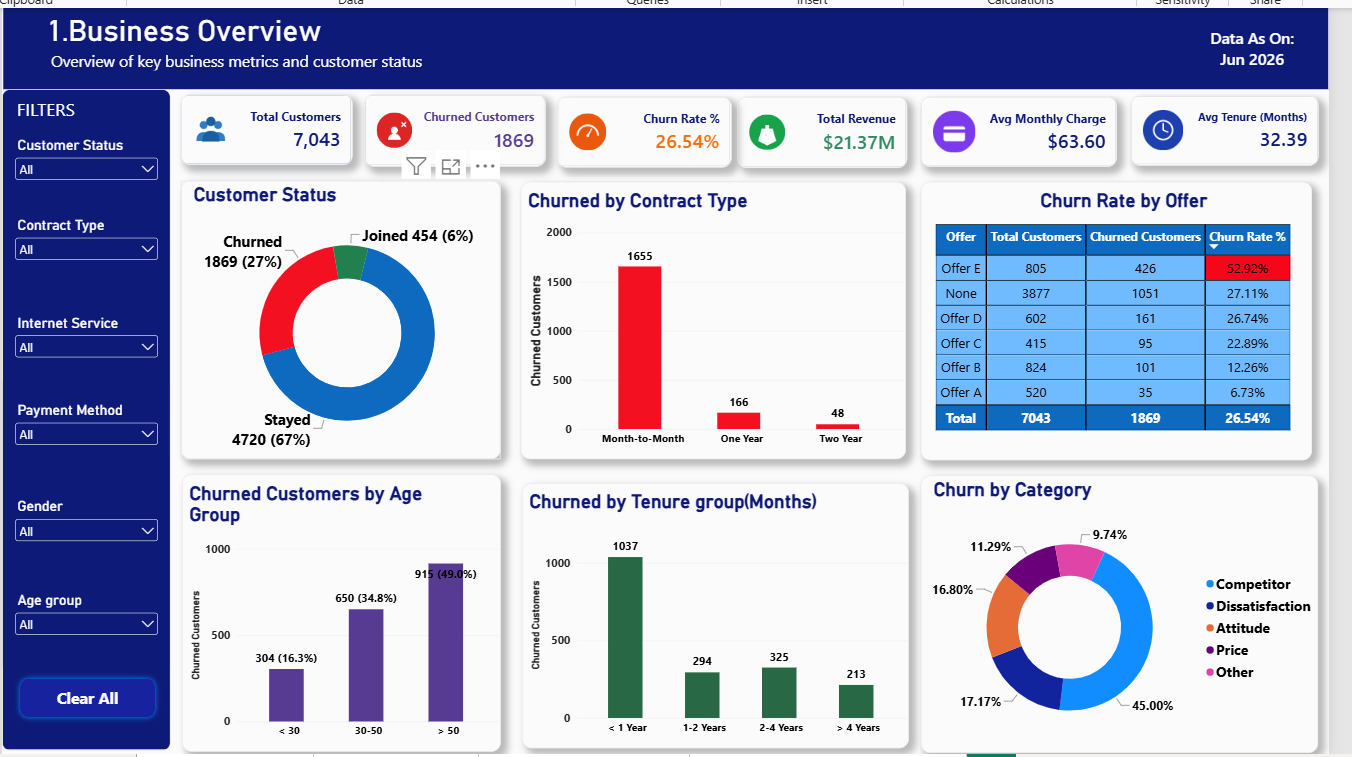

What the dashboard file says about the page in this screenshot:
{"tool":"powerbi","page":{"name":"Business Overview","canvas":[1920,1080],"ordinal":0},"visuals":[{"type":"shape","title":"FILTERS","box":[0,117.6,244.3,957.3],"z":0},{"type":"shape","box":[1.8,0,1918.2,117.6],"z":1000},{"type":"cardVisual","fields":{"Data":["telecom_customer_churn.Total Customers"]},"box":[257.9,124.4,248.8,102.4],"z":2000},{"type":"slicer","fields":{"Values":["telecom_customer_churn.Customer Status"]},"box":[14.6,186.6,215.9,80.5],"z":3000},{"type":"textbox","title":"1.Business Overview","box":[9,7.2,508.5,61.5],"z":4000},{"type":"slicer","fields":{"Values":["telecom_customer_churn.Age group"]},"box":[14.6,845.1,215.9,87.8],"z":5000},{"type":"slicer","fields":{"Values":["telecom_customer_churn.Internet Service"]},"box":[14.6,442.7,215.9,80.5],"z":6000},{"type":"slicer","fields":{"Values":["telecom_customer_churn.Payment Method"]},"box":[14.6,570.7,215.9,80.5],"z":7000},{"type":"slicer","fields":{"Values":["telecom_customer_churn.Gender"]},"box":[14.6,709.8,215.9,80.5],"z":8000},{"type":"slicer","fields":{"Values":["telecom_customer_churn.Contract"]},"box":[14.6,301.8,215.9,80.5],"z":9000},{"type":"cardVisual","fields":{"Data":["telecom_customer_churn.Data As On"]},"box":[1699,0,221.3,117.1],"z":10000},{"type":"cardVisual","fields":{"Data":["Avg(telecom_customer_churn.Monthly Charge)"]},"box":[1330.4,128.4,284.1,101.3],"z":11000},{"type":"cardVisual","fields":{"Data":["telecom_customer_churn.Churned Customers"]},"box":[525.2,124.6,262.4,105],"z":12000},{"type":"cardVisual","fields":{"Data":["telecom_customer_churn.Churn Rate %"]},"box":[803.2,128.4,252.4,102.4],"z":13000},{"type":"cardVisual","fields":{"Data":["Sum(telecom_customer_churn.Total Revenue)"]},"box":[1063.9,128.4,246.1,103.2],"z":14000},{"type":"cardVisual","fields":{"Data":["telecom_customer_churn.Avg Tenure (Months)"]},"box":[1633.2,126.5,272.2,101.6],"z":15000},{"type":"pieChart","title":"Customer Status","fields":{"Category":["telecom_customer_churn.Customer Status"],"Y":["telecom_customer_churn.Total Customers"]},"box":[258.8,249.7,463.3,403.6],"z":16000},{"type":"columnChart","title":"Churned by Contract Type","fields":{"Category":["telecom_customer_churn.Contract"],"Y":["telecom_customer_churn.Churned Customers"]},"box":[751,251.5,557.4,401.7],"z":17000},{"type":"columnChart","title":"Churned Customers by Age Group","fields":{"Y":["telecom_customer_churn.Churned Customers"],"Category":["telecom_customer_churn.Age group"]},"box":[260.6,675,461.5,401.7],"z":18000},{"type":"columnChart","title":"Churned by Tenure group(Months)","fields":{"Y":["telecom_customer_churn.Churned Customers1"],"Category":["telecom_customer_churn.Tenure Group New"]},"box":[752,688,560,384],"z":19000},{"type":"pieChart","title":"Churn by Category","fields":{"Y":["telecom_customer_churn.Churned Customers"],"Category":["telecom_customer_churn.Churn Category"]},"box":[1330.1,676.8,575.5,401.7],"z":20000},{"type":"actionButton","title":"fefdg","box":[18.1,962.7,211.7,72.4],"z":21000},{"type":"tableEx","title":"Churn Rate by Offer","fields":{"Values":["telecom_customer_churn.Offer","telecom_customer_churn.Total Customers","telecom_customer_churn.Churned Customers","telecom_customer_churn.Churn Rate %"]},"box":[1330.3,252.2,566.1,403.6],"z":22000}]}

Visuals, with their boxes on the page's 1920x1080 design canvas (x1, y1, x2, y2). These are canvas units, not pixel positions in the 1352x757 screenshot, which may show the page scaled, cropped or inside an application window:
"FILTERS" shape: <bbox>0, 118, 244, 1075</bbox>
shape: <bbox>2, 0, 1920, 118</bbox>
cardVisual - telecom_customer_churn.Total Customers: <bbox>258, 124, 507, 227</bbox>
slicer - telecom_customer_churn.Customer Status: <bbox>15, 187, 230, 267</bbox>
"1.Business Overview" textbox: <bbox>9, 7, 518, 69</bbox>
slicer - telecom_customer_churn.Age group: <bbox>15, 845, 230, 933</bbox>
slicer - telecom_customer_churn.Internet Service: <bbox>15, 443, 230, 523</bbox>
slicer - telecom_customer_churn.Payment Method: <bbox>15, 571, 230, 651</bbox>
slicer - telecom_customer_churn.Gender: <bbox>15, 710, 230, 790</bbox>
slicer - telecom_customer_churn.Contract: <bbox>15, 302, 230, 382</bbox>
cardVisual - telecom_customer_churn.Data As On: <bbox>1699, 0, 1920, 117</bbox>
cardVisual - Avg(telecom_customer_churn.Monthly Charge): <bbox>1330, 128, 1614, 230</bbox>
cardVisual - telecom_customer_churn.Churned Customers: <bbox>525, 125, 788, 230</bbox>
cardVisual - telecom_customer_churn.Churn Rate %: <bbox>803, 128, 1056, 231</bbox>
cardVisual - Sum(telecom_customer_churn.Total Revenue): <bbox>1064, 128, 1310, 232</bbox>
cardVisual - telecom_customer_churn.Avg Tenure (Months): <bbox>1633, 126, 1905, 228</bbox>
"Customer Status" pieChart: <bbox>259, 250, 722, 653</bbox>
"Churned by Contract Type" columnChart: <bbox>751, 252, 1308, 653</bbox>
"Churned Customers by Age Group" columnChart: <bbox>261, 675, 722, 1077</bbox>
"Churned by Tenure group(Months)" columnChart: <bbox>752, 688, 1312, 1072</bbox>
"Churn by Category" pieChart: <bbox>1330, 677, 1906, 1078</bbox>
"fefdg" actionButton: <bbox>18, 963, 230, 1035</bbox>
"Churn Rate by Offer" tableEx: <bbox>1330, 252, 1896, 656</bbox>
